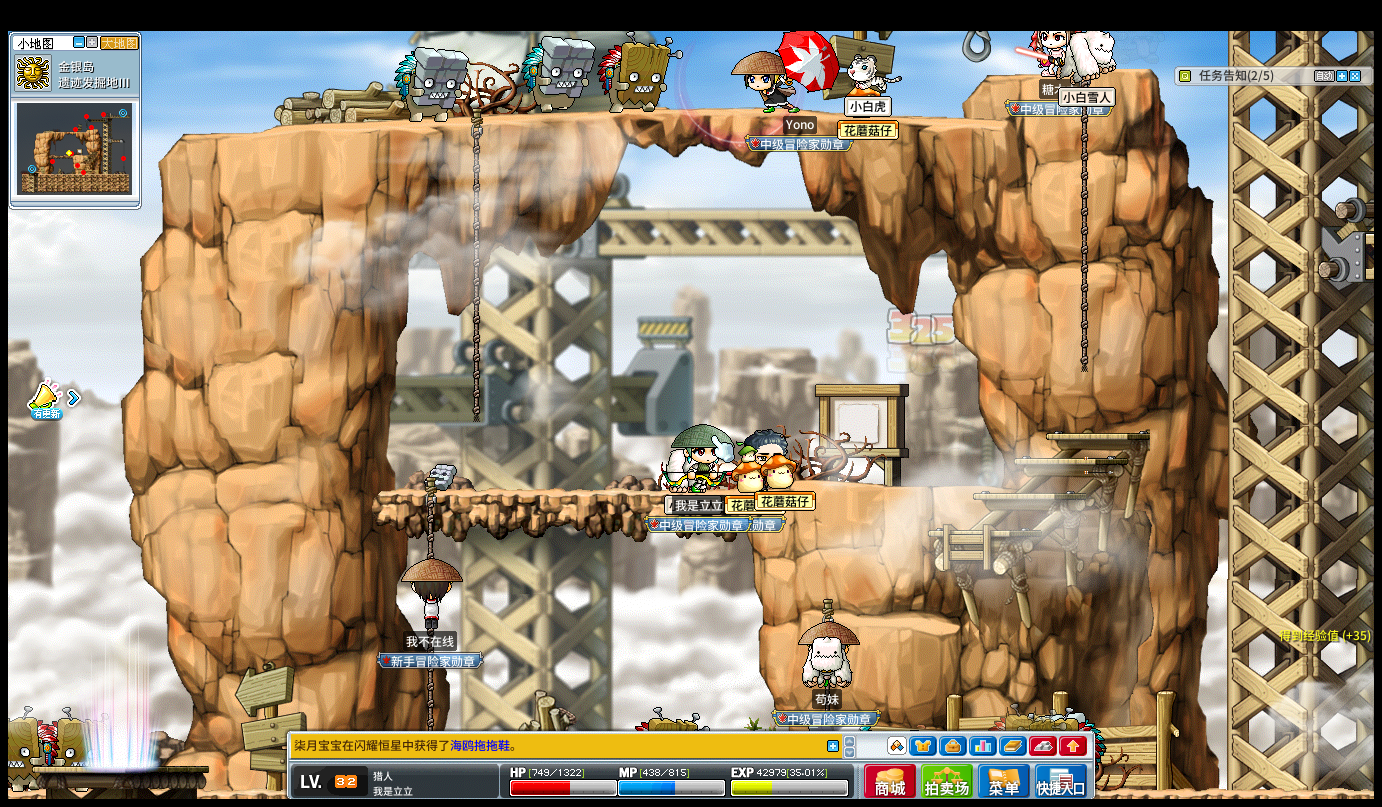floor: (187, 104, 1038, 138), (375, 488, 760, 499), (987, 69, 1157, 82), (855, 613, 960, 634), (856, 483, 1013, 492), (1045, 429, 1151, 441), (927, 527, 1038, 536), (1010, 456, 1123, 464), (976, 492, 1086, 500)
monster: (599, 31, 674, 112), (521, 33, 596, 114), (394, 45, 467, 123), (3, 710, 55, 791)
rope: (470, 104, 482, 424), (1077, 81, 1090, 375), (422, 479, 435, 559), (423, 669, 433, 729)
